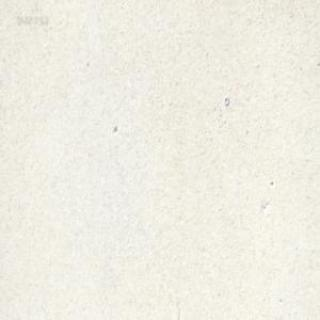Washertrack_idkeyframe: (223, 94, 229, 105)
